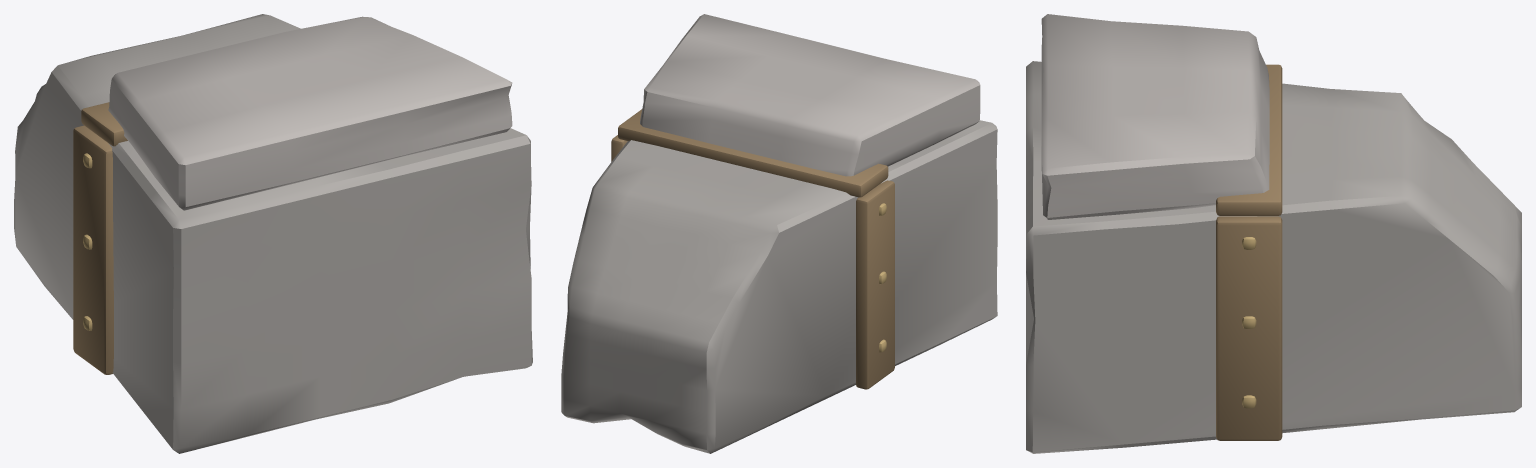
File: SM_Area2_RimTooth_Big_A.glb
3 views of the same model, side by side, from view 1: azimuth 30°, elevation 25°; view 2: azimuth 150°, elevation 25°; view 3: azimuth 270°, elevation 25° (orthographic). The views are drawn at different scales.
Parts seen in each view (by area): view 1: SM_Area2_RimTooth_Big_A; view 2: SM_Area2_RimTooth_Big_A; view 3: SM_Area2_RimTooth_Big_A.
Part boxes in pixels (box(x1,y1,x2,y2)): SM_Area2_RimTooth_Big_A: box(14, 14, 532, 453); SM_Area2_RimTooth_Big_A: box(561, 14, 997, 453); SM_Area2_RimTooth_Big_A: box(1026, 14, 1521, 453).
Bounding box in the file's own units: 2.09 × 1.6 × 2.55.
